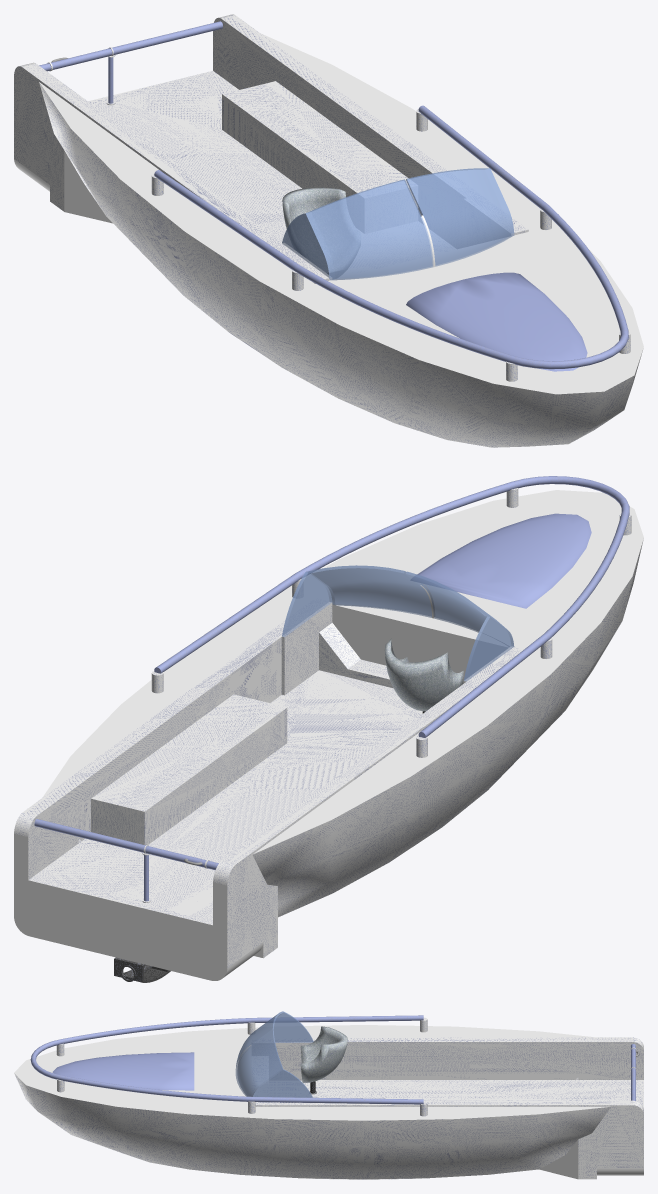
3 views of the same model, one above another, from view 1: azimuth 30°, elevation 25°; view 2: azimuth 150°, elevation 25°; view 3: azimuth 270°, elevation 25° (orthographic). The views are drawn at different scales.
Parts seen in each view (by area): view 1: SketchUp (×6), group_0, group_2; view 2: SketchUp (×6), group_0, group_2; view 3: SketchUp (×6), group_0, group_2.
Part boxes in pixels (<box>): SketchUp (×6): <box>14,14,643,447</box>; group_0: <box>406,272,587,371</box>; group_2: <box>282,187,360,278</box>; SketchUp (×6): <box>14,476,643,980</box>; group_0: <box>411,513,591,608</box>; group_2: <box>384,638,463,711</box>; SketchUp (×6): <box>14,1011,643,1179</box>; group_0: <box>52,1052,194,1090</box>; group_2: <box>300,1026,347,1083</box>.
Bounding box in the file's own units: 129 × 359 × 87.66.
Materials: 12 (1 with a texture image).
